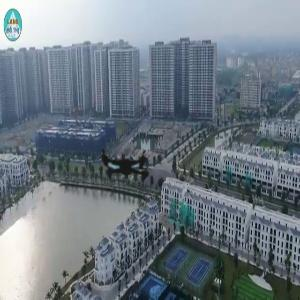drone: (54, 93, 203, 242)
